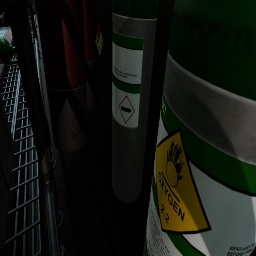0: (143, 0, 256, 256), (112, 0, 158, 203), (0, 38, 16, 64)
NitrogenTank ,: (35, 0, 88, 154), (83, 0, 100, 111), (0, 12, 10, 28)
